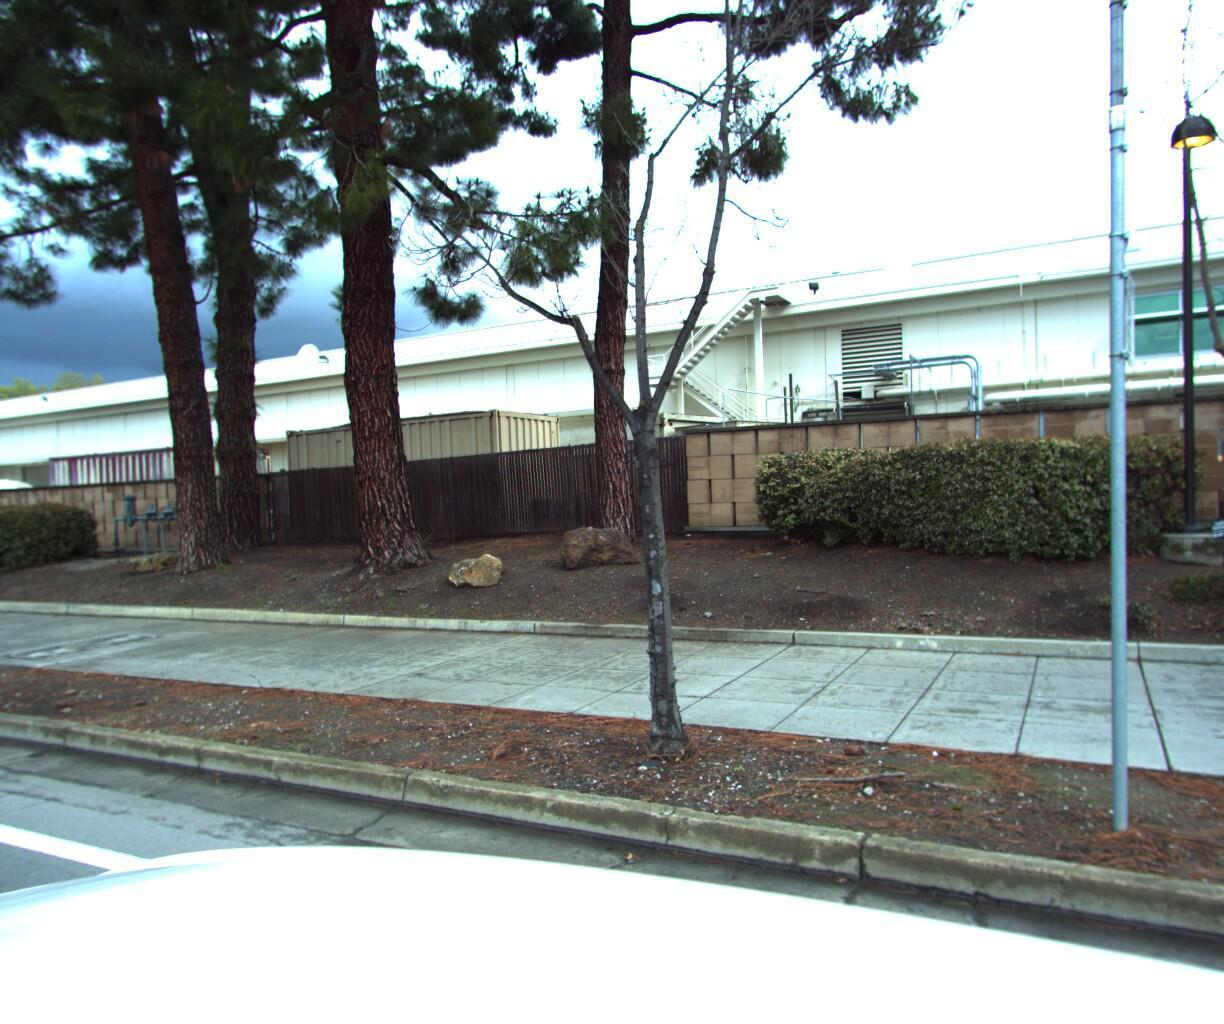truck: (495, 362, 869, 540)
